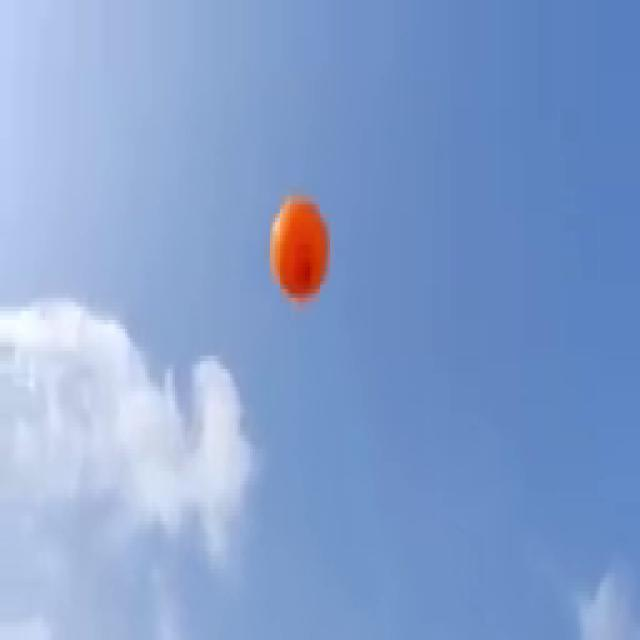red: (268, 193, 330, 302)
